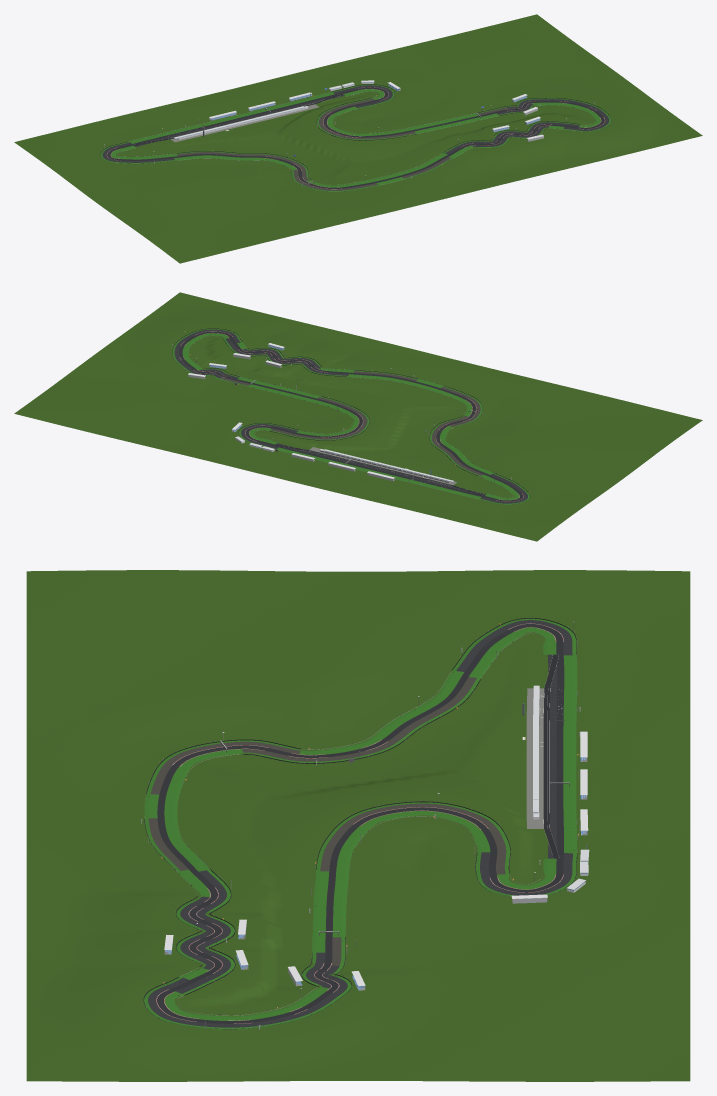
Rendered from grand-prix-track.glb.
3 views of the same model, one above another, from view 1: azimuth 30°, elevation 25°; view 2: azimuth 150°, elevation 25°; view 3: azimuth 270°, elevation 25° (orthographic). The views are drawn at different scales.
Visible parts, largest first — view 1: terrain_grass, grass, road, runoff_asphalt, gravel_traps, tyre_walls, grandstands, hospitality, kerbs; view 2: terrain_grass, grass, road, runoff_asphalt, gravel_traps, grandstands, tyre_walls, hospitality, kerbs, pit_lane; view 3: terrain_grass, grass, road, runoff_asphalt, gravel_traps, tyre_walls, grandstands, pit_apron, kerbs, pit_lane, hospitality.
Part boxes in pixels (<box>): terrain_grass: <box>14,14,702,263</box>; grass: <box>100,84,611,191</box>; road: <box>107,87,604,188</box>; runoff_asphalt: <box>102,85,609,162</box>; gravel_traps: <box>177,98,507,190</box>; tyre_walls: <box>100,84,611,191</box>; grandstands: <box>209,82,543,141</box>; hospitality: <box>174,80,374,139</box>; kerbs: <box>106,87,605,189</box>; terrain_grass: <box>14,292,702,541</box>; grass: <box>172,329,529,504</box>; road: <box>179,331,523,501</box>; runoff_asphalt: <box>174,329,527,503</box>; gravel_traps: <box>220,371,483,475</box>; grandstands: <box>188,343,394,480</box>; tyre_walls: <box>172,328,530,504</box>; hospitality: <box>235,436,453,482</box>; kerbs: <box>179,331,523,501</box>; pit_lane: <box>275,444,484,496</box>; terrain_grass: <box>26,570,690,1081</box>; grass: <box>144,618,577,1029</box>; road: <box>157,624,564,1023</box>; runoff_asphalt: <box>148,620,572,1027</box>; gravel_traps: <box>148,677,506,966</box>; tyre_walls: <box>143,618,577,1029</box>; grandstands: <box>164,731,588,990</box>; pit_apron: <box>526,688,544,828</box>; kerbs: <box>156,623,563,1023</box>; pit_lane: <box>543,654,558,857</box>; hospitality: <box>533,685,589,892</box>.
Size of the model in its own units: 2424 by 38.46 by 1332.
Materials: 30 (12 with a texture image).
